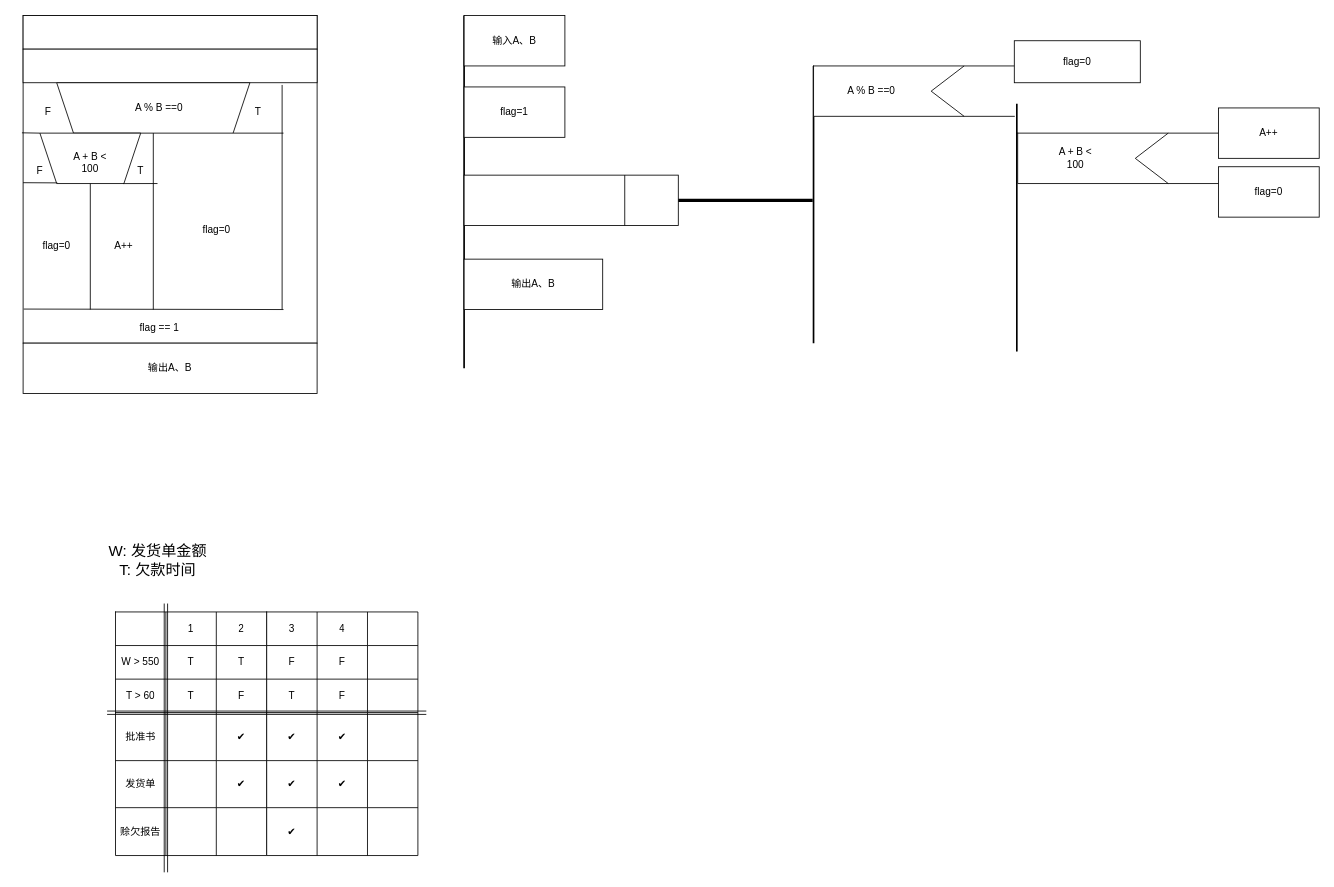
The diagram is 1334 pixels wide and 887 high, and some of its shapes have lost their labels. The shapes that lost their labels are listed below. From the top down, each one's box as (x1, y1, x2, y2) in pixels, then its label:
(22, 15, 317, 49): 输入A, B
(22, 48, 317, 83): flag = 1
(463, 174, 678, 226): UNTIL flag == 0
